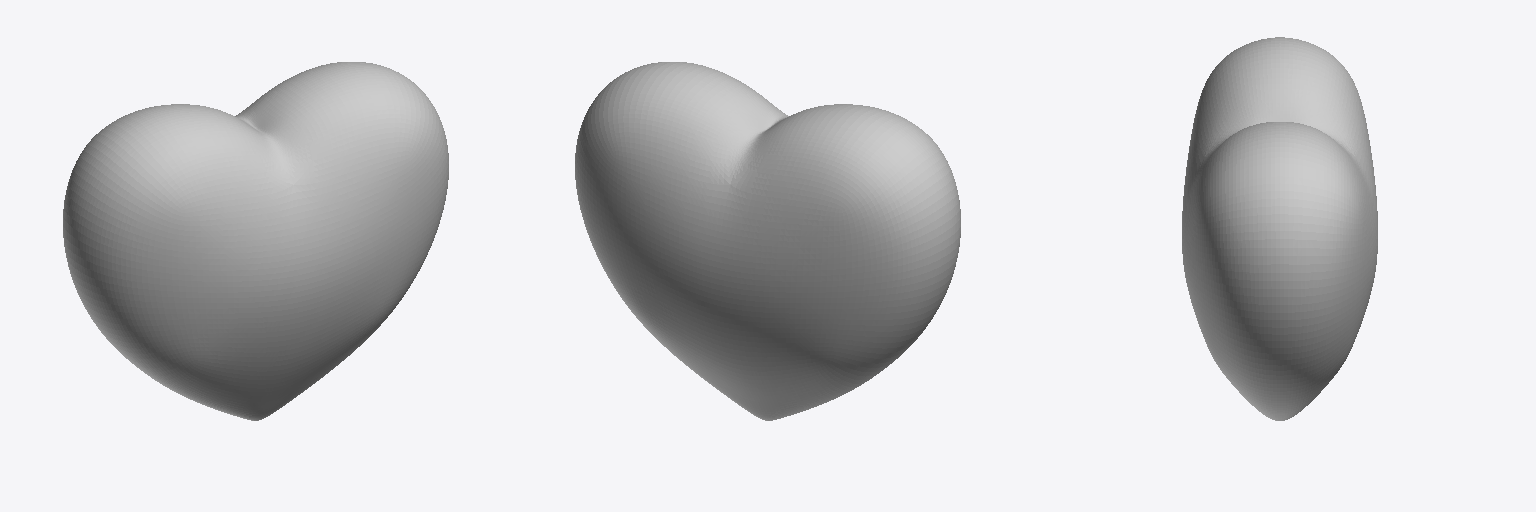
Rendered from love_heart.obj.
The picture shows the model from 3 angles: view 1: azimuth 30°, elevation 25°; view 2: azimuth 150°, elevation 25°; view 3: azimuth 270°, elevation 25°; orthographic projection.
Visible parts, largest first — view 1: Vert; view 2: Vert; view 3: Vert.
Part boxes in pixels (x1,y1,x2,y2): Vert: (63,62,448,420); Vert: (575,62,960,420); Vert: (1182,37,1377,420).
Size of the model in its own units: 2.77 by 2.36 by 1.28.